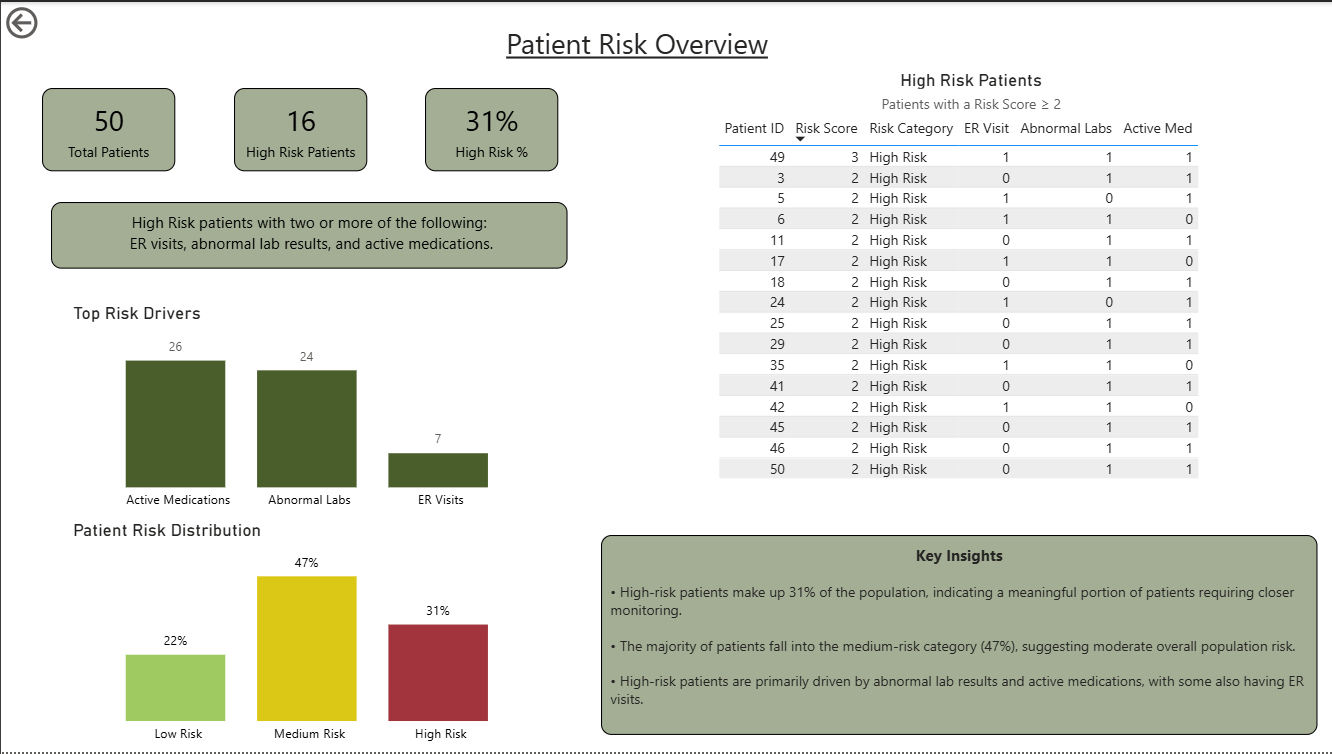

Layout of this report page (visuals, bound fields, positions):
{"tool":"powerbi","page":{"name":"Patient Risk & Demographics","canvas":[1280,720],"ordinal":1},"visuals":[{"type":"clusteredColumnChart","title":"Patient Risk Distribution","fields":{"Category":["Patient Risk.Risk Category"],"Y":["Measures..Risk %"]},"box":[64,496,464,224],"z":0},{"type":"card","fields":{"Values":["Measures..Total Patients"]},"box":[39.2,82.1,128,80],"z":1000},{"type":"card","fields":{"Values":["Measures..High Risk Patients"]},"box":[223.3,82.1,128,80],"z":2000},{"type":"card","fields":{"Values":["Measures..High Risk %"]},"box":[407.4,82.1,128,80],"z":3000},{"type":"textbox","box":[48,192,496,64],"z":4000},{"type":"actionButton","box":[0,0,100,40],"z":5000},{"type":"tableEx","title":"High Risk Patients","fields":{"Values":["patients.patient_id","Patient Risk.Risk Score","Patient Risk.Risk Category","Patient Risk.ER_Flag","Patient Risk.Abnormal_Lab_Flag","Patient Risk.Active_Med_Flag"]},"box":[684,64,496,416],"z":6000},{"type":"textbox","box":[480,16,272,48],"z":7000},{"type":"textbox","box":[576,512,688,192],"z":8000},{"type":"clusteredColumnChart","title":"Top Risk Drivers","fields":{"Category":["Risk Drivers.Driver"],"Y":["Risk Drivers.Driver Value"]},"box":[64,288,464,208],"z":9000}]}

Visuals, with their boxes in screenshot pixels (x1, y1, x2, y2), scaled from the page's 1280x720 canvas onto the 1332x754 screenshot:
"Patient Risk Distribution" clusteredColumnChart: <box>67,519,549,753</box>
card - Measures..Total Patients: <box>41,86,174,170</box>
card - Measures..High Risk Patients: <box>232,86,366,170</box>
card - Measures..High Risk %: <box>424,86,557,170</box>
textbox: <box>50,201,566,268</box>
actionButton: <box>0,0,104,42</box>
"High Risk Patients" tableEx: <box>712,67,1228,503</box>
textbox: <box>499,17,783,67</box>
textbox: <box>599,536,1315,737</box>
"Top Risk Drivers" clusteredColumnChart: <box>67,302,549,519</box>
